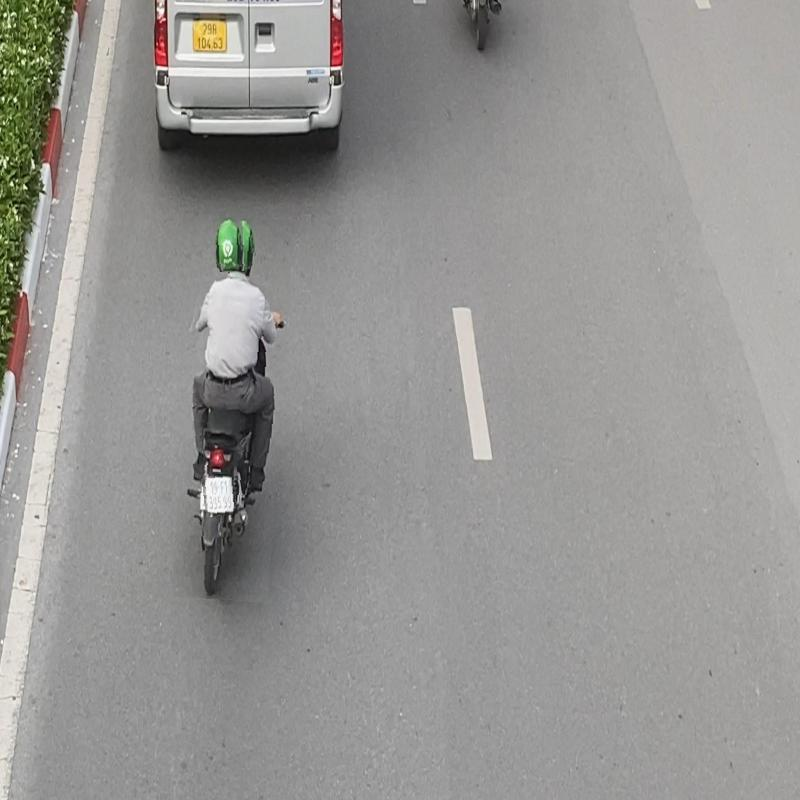helmet: (214, 217, 244, 272)
licenseplate: (203, 472, 237, 517)
motorcyclist: (178, 216, 288, 602)
